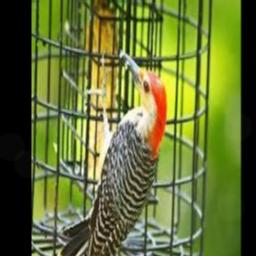Woodpecker: (60, 48, 167, 256)
